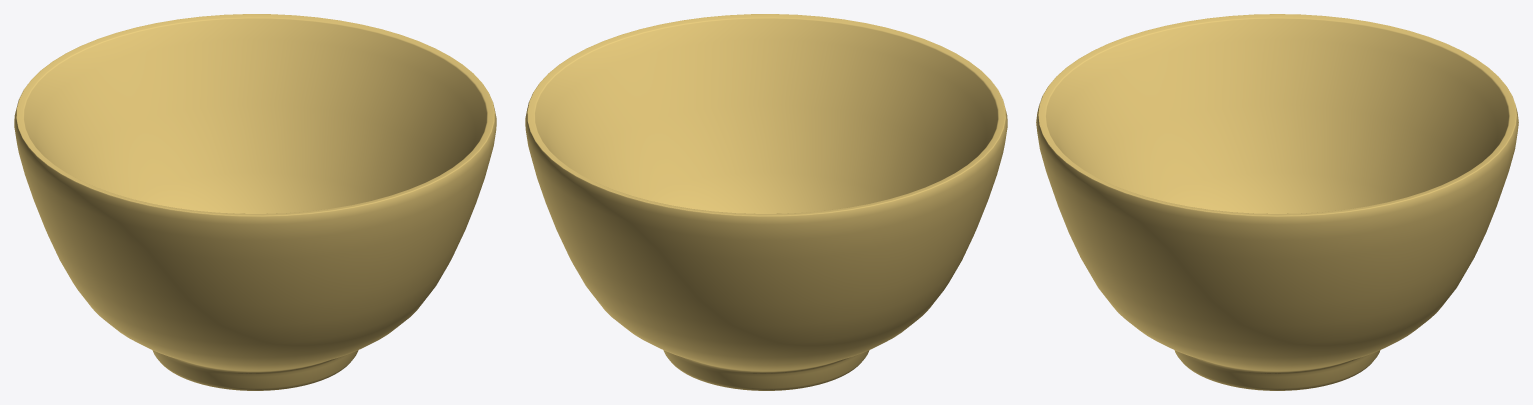
File: bowl_V1.fbx
3 renders of one model, left to right at view 1: azimuth 30°, elevation 25°; view 2: azimuth 150°, elevation 25°; view 3: azimuth 270°, elevation 25°, orthographic.
Parts seen in each view (by area): view 1: bowl_V1_GEO_01; view 2: bowl_V1_GEO_01; view 3: bowl_V1_GEO_01.
Boxes of the visible parts, <box> form: bowl_V1_GEO_01: <box>14,14,496,390</box>; bowl_V1_GEO_01: <box>525,14,1007,390</box>; bowl_V1_GEO_01: <box>1036,14,1518,390</box>.
Size of the model in its own units: 12.75 by 6.81 by 12.75.
